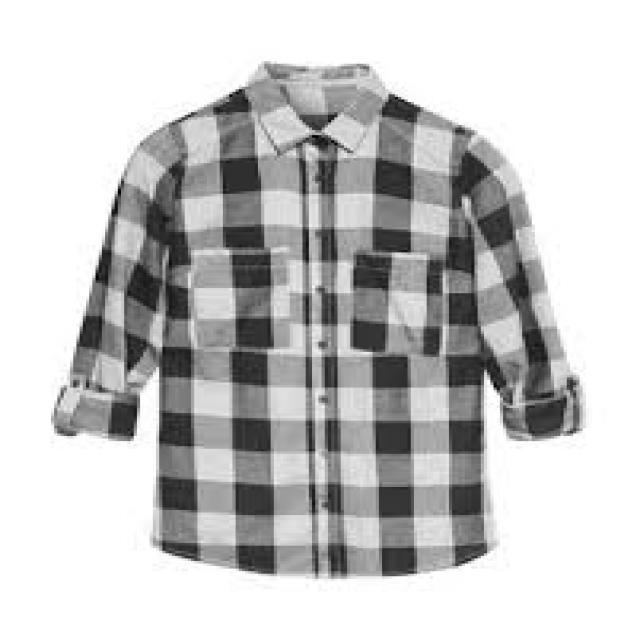plaid: (56, 55, 592, 586)
